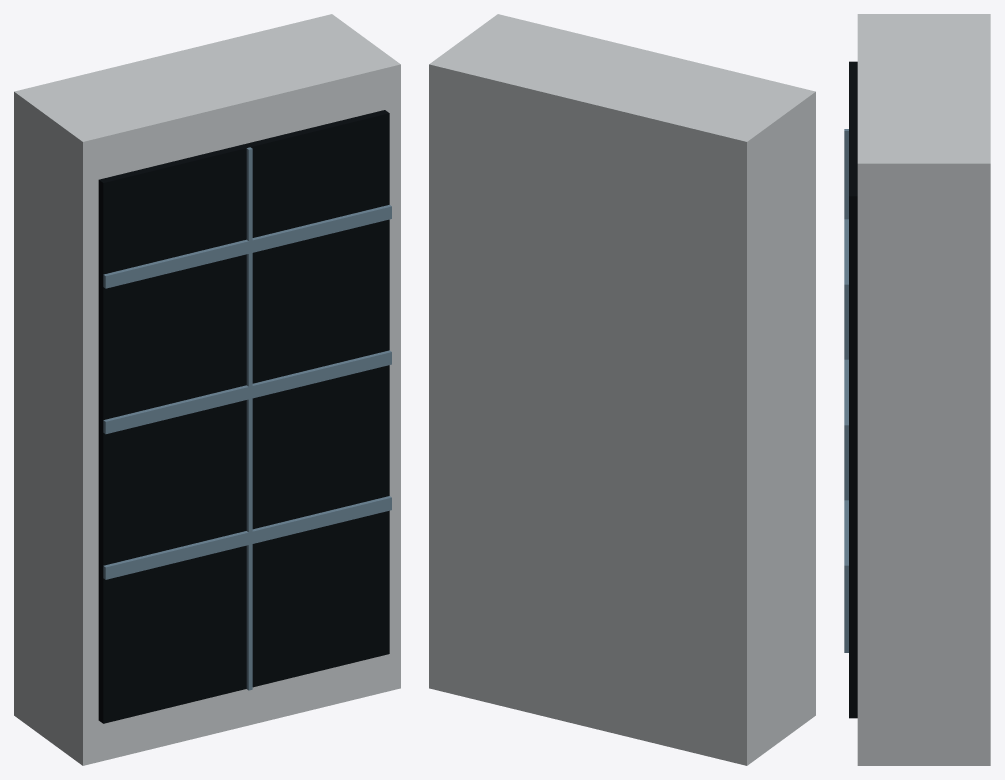
The model's file is med_supply_cabinet.glb.
3 renders of one model, left to right at view 1: azimuth 30°, elevation 25°; view 2: azimuth 150°, elevation 25°; view 3: azimuth 270°, elevation 25°, orthographic. The views are drawn at different scales.
Visible parts, largest first — view 1: sw5e_int_med_supply_cabinet; view 2: sw5e_int_med_supply_cabinet; view 3: sw5e_int_med_supply_cabinet.
Boxes of the visible parts, x1,y1,x2,y2 form: sw5e_int_med_supply_cabinet: (14, 14, 400, 765); sw5e_int_med_supply_cabinet: (429, 14, 815, 765); sw5e_int_med_supply_cabinet: (844, 14, 990, 765).
Bounding box in the file's own units: 0.8 × 1.5 × 0.33.
